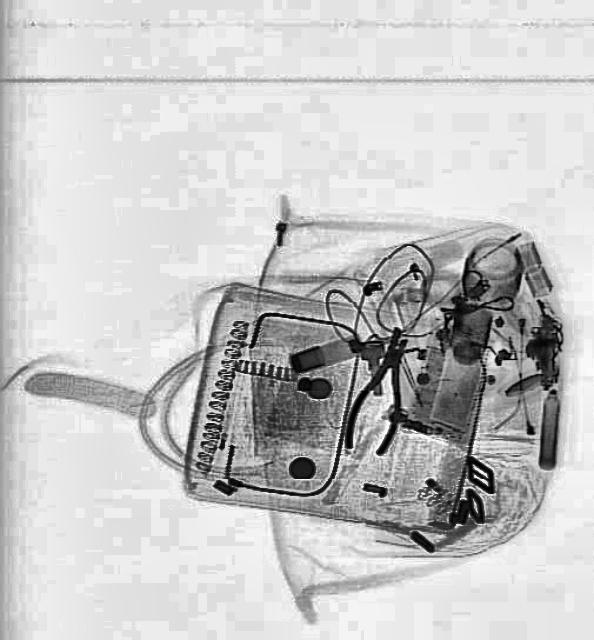Pliers: (338, 320, 422, 460)
